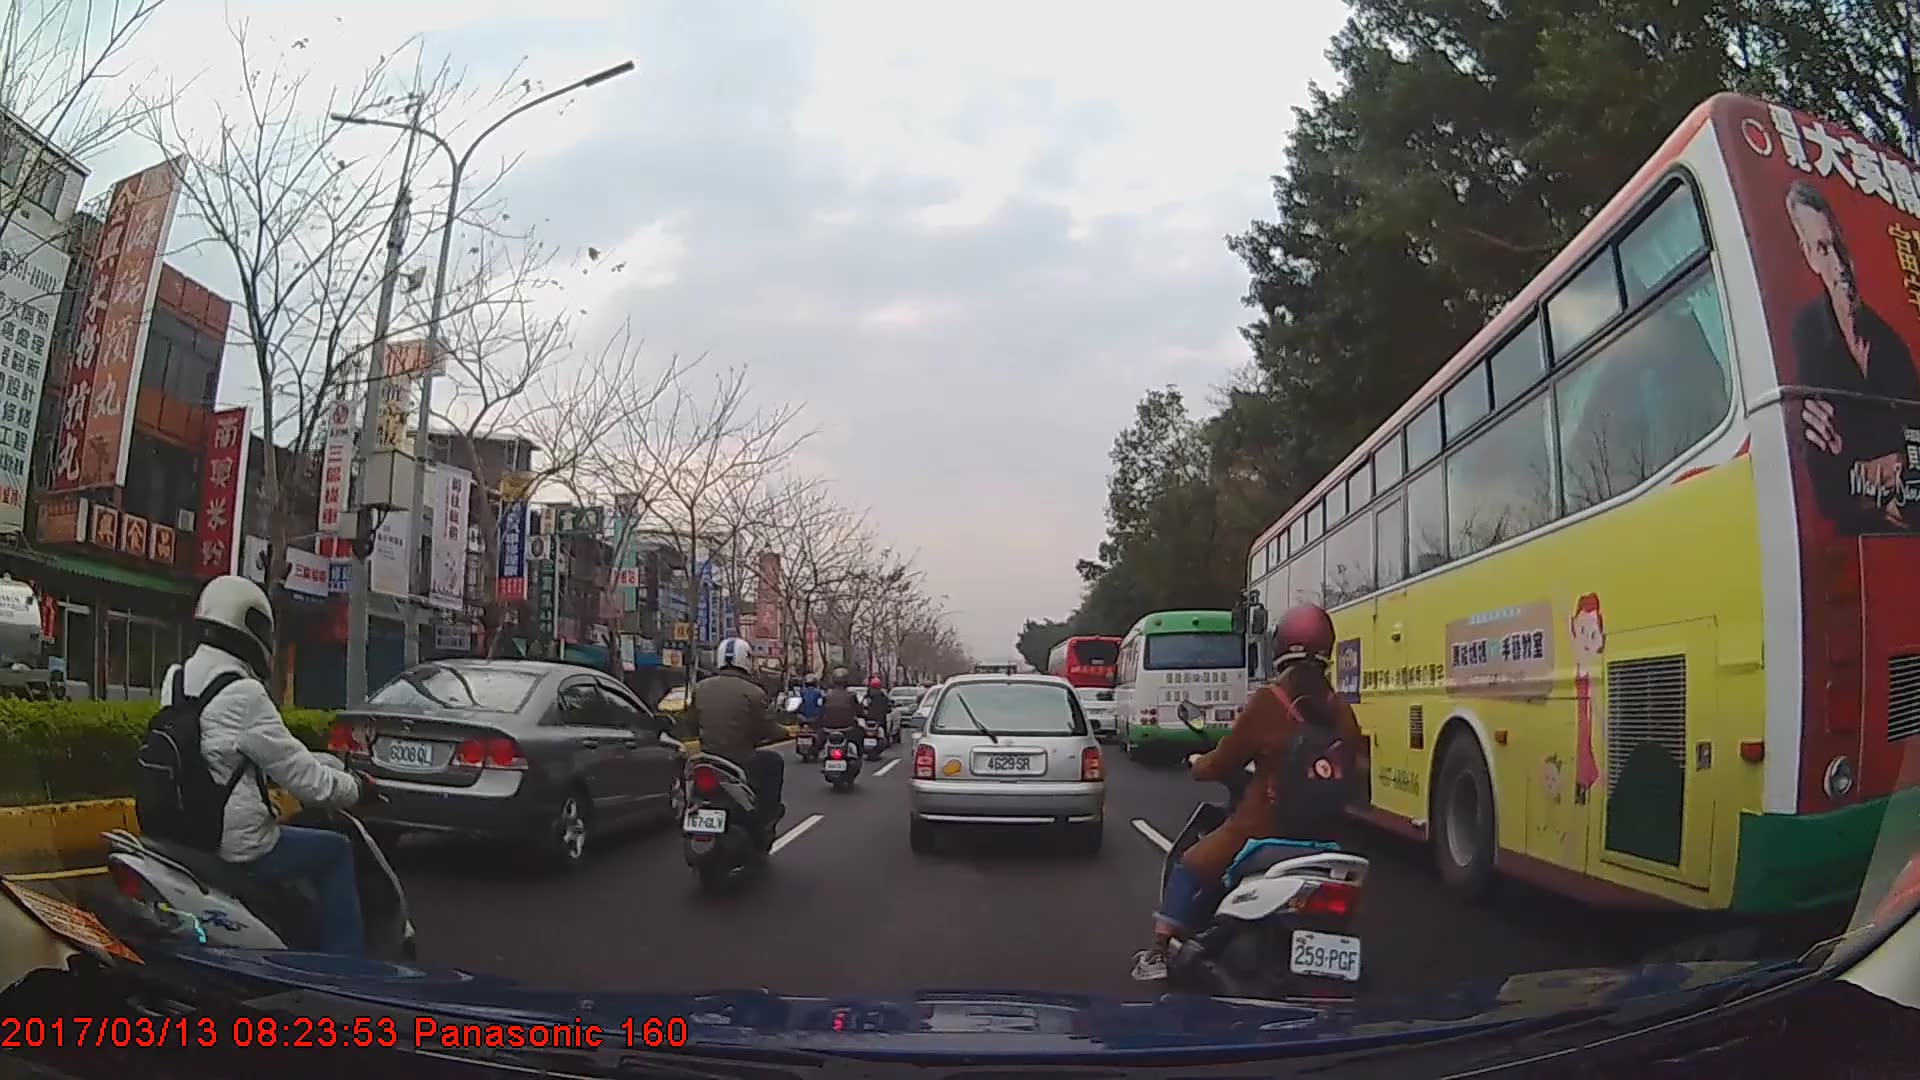rider: (103, 575, 414, 998), (1136, 604, 1377, 1014), (679, 634, 802, 896), (818, 669, 864, 791), (859, 677, 893, 762), (794, 673, 831, 750)
vehicle: (1244, 88, 1917, 925), (323, 655, 695, 871), (912, 669, 1104, 850), (1112, 608, 1253, 761), (0, 555, 57, 760), (1046, 634, 1131, 734), (646, 678, 719, 728)
